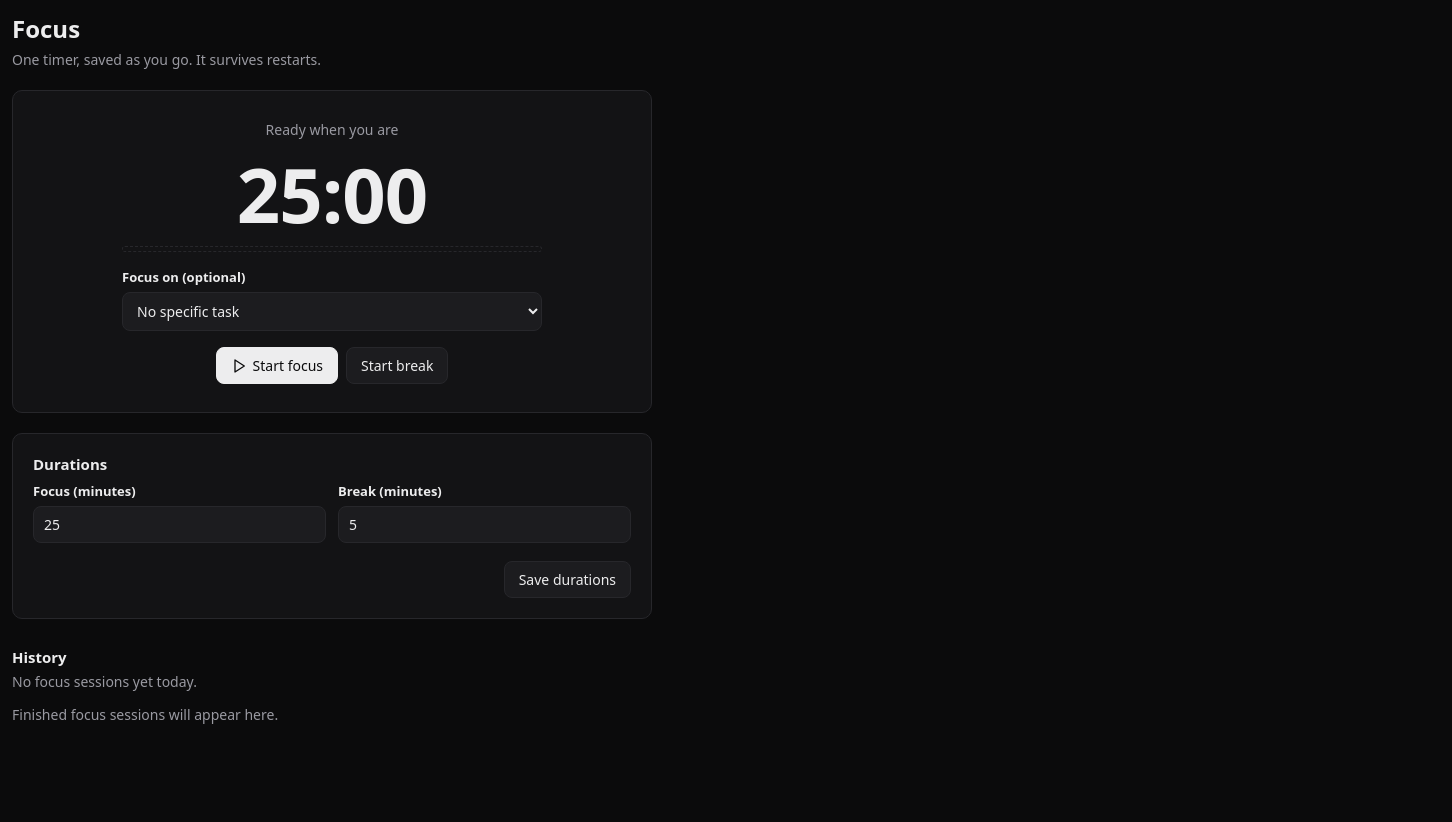
Test: FocusView › shows a backend error and keeps the UI usable
Click the button "Start focus".
click(277, 366)  # box [216, 347, 338, 384]
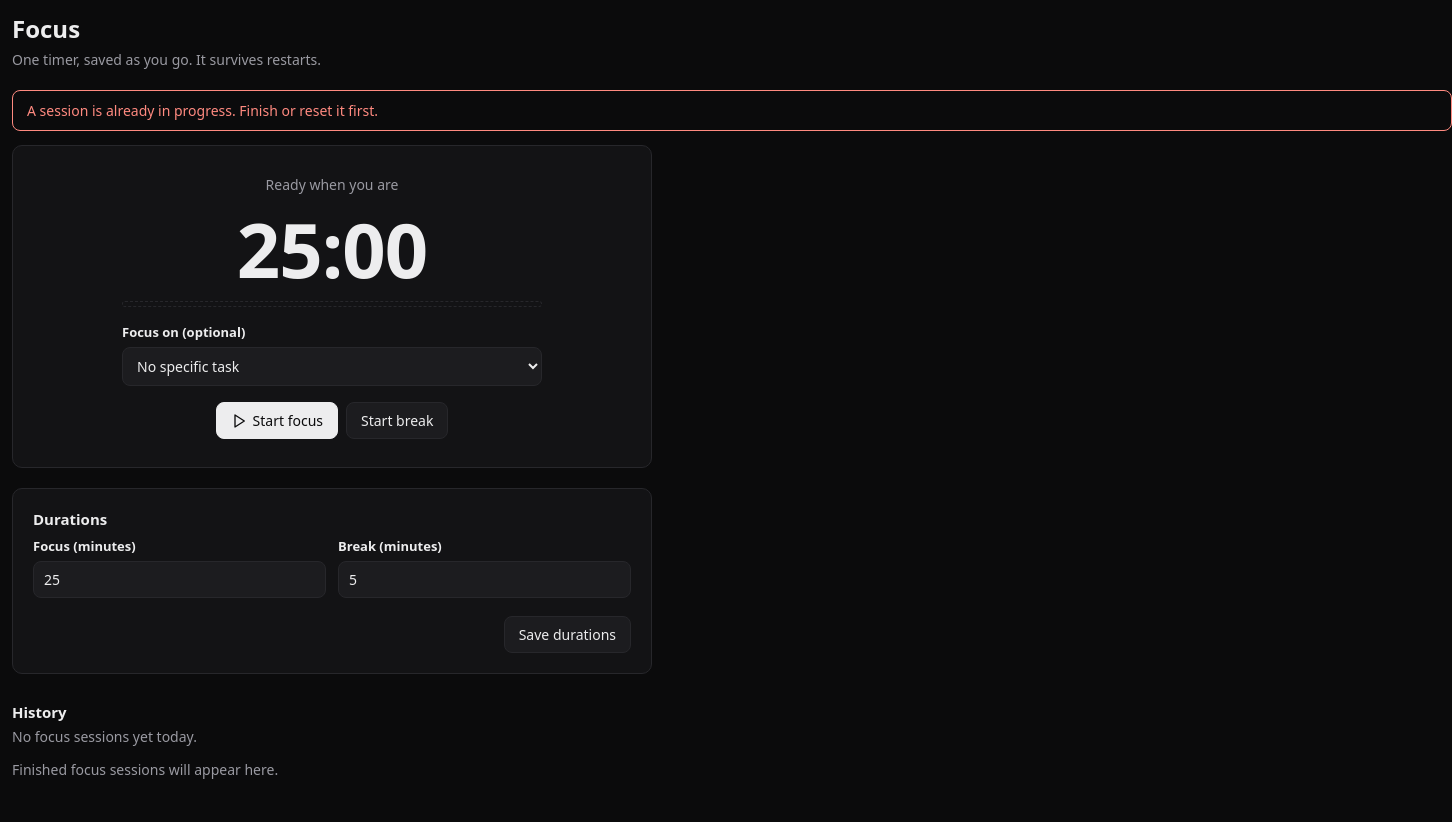
Check: the text "A session is already in progress. Finish or reset it first." is shown, box [27, 101, 378, 120]
